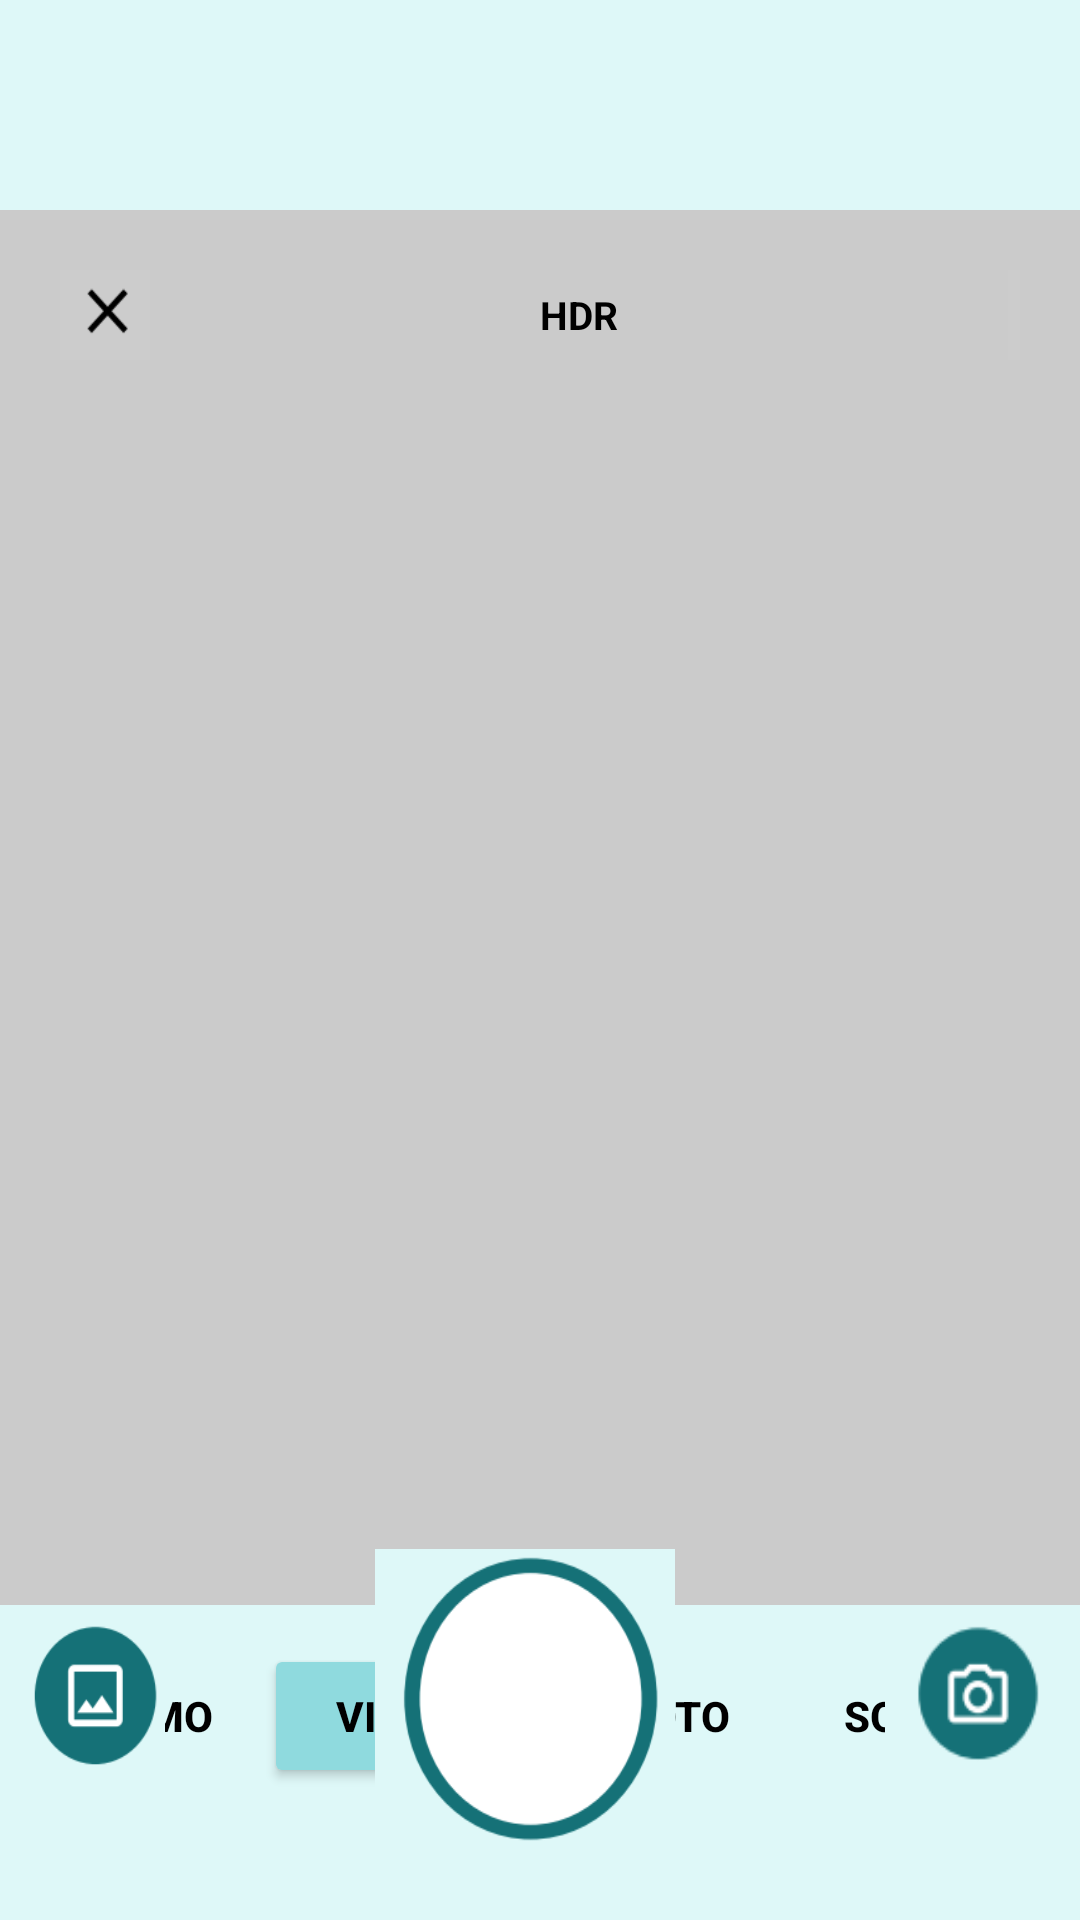

Icon bounding boxes for this 1080px×1920px phone screenshot, format (x1, y1, x2, y2):
camera cross: (87, 289, 128, 333)
